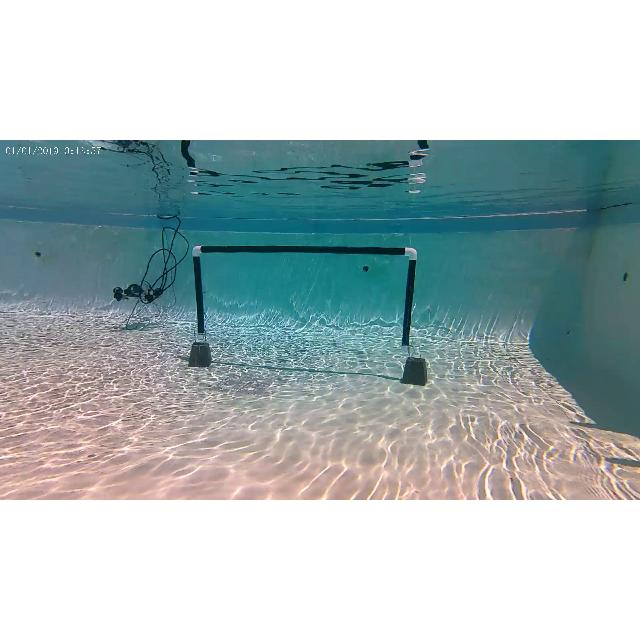prequal gate: (192, 245, 418, 351)
prequal gate leg l: (187, 245, 213, 369)
prequal gate leg r: (400, 245, 430, 388)
